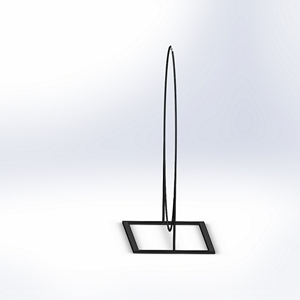circle: (121, 42, 218, 255)
